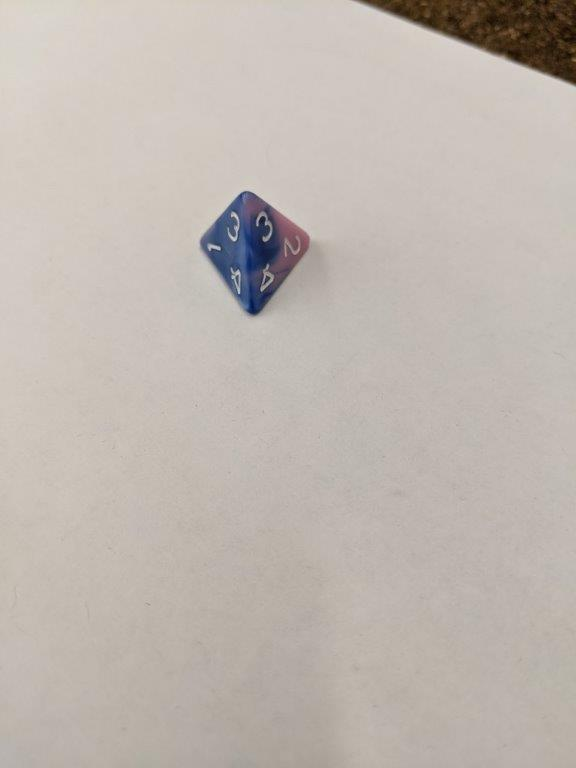d4-3: (195, 188, 311, 318)
